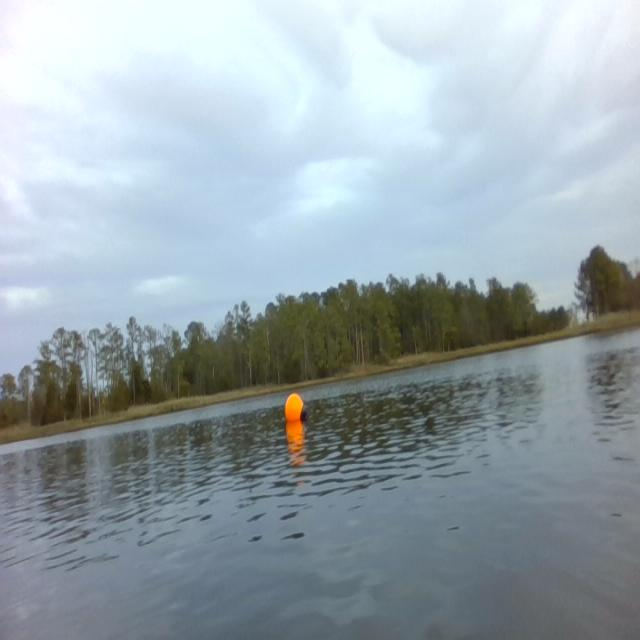Buoy: (283, 388, 310, 427)
